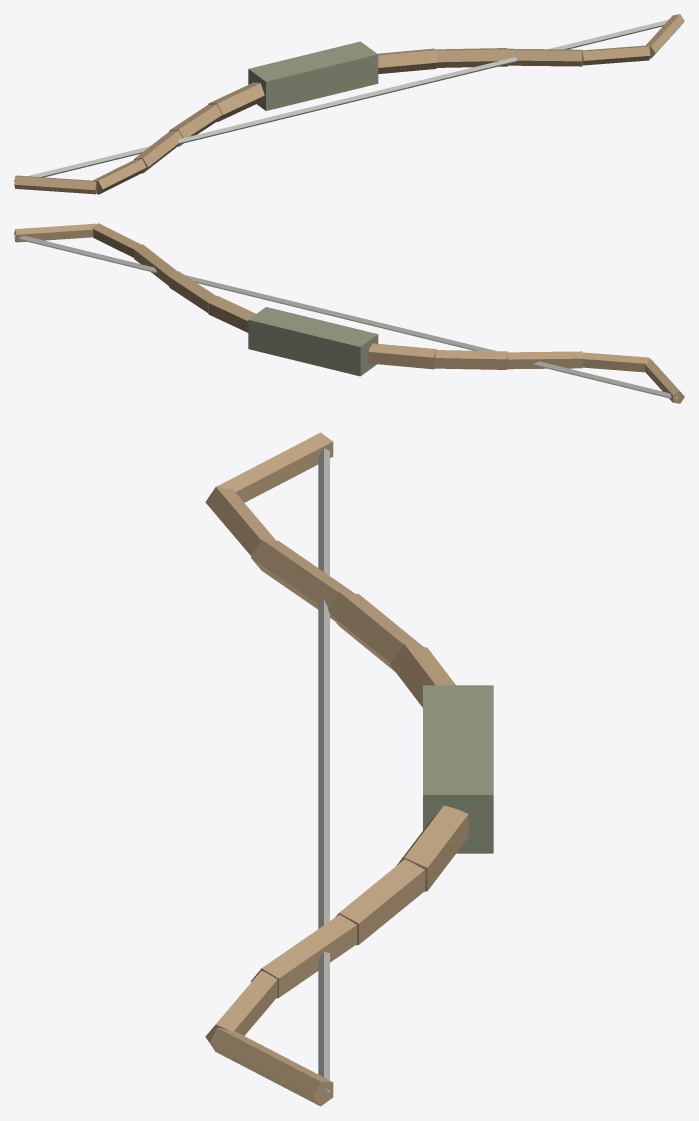
Rendered from wipe-day-survival-island-hunting-bow-013f7908__27484.glb.
3 renders of one model, top to bottom at view 1: azimuth 30°, elevation 25°; view 2: azimuth 150°, elevation 25°; view 3: azimuth 270°, elevation 25°, orthographic. The views are drawn at different scales.
Visible parts, largest first — view 1: hunting-bow; view 2: hunting-bow; view 3: hunting-bow.
Part boxes in pixels (x1,y1,x2,y2): hunting-bow: (14, 14, 684, 194); hunting-bow: (14, 223, 684, 403); hunting-bow: (205, 432, 493, 1106).
Bounding box in the file's own units: 1.32 × 0.055 × 0.2449.
